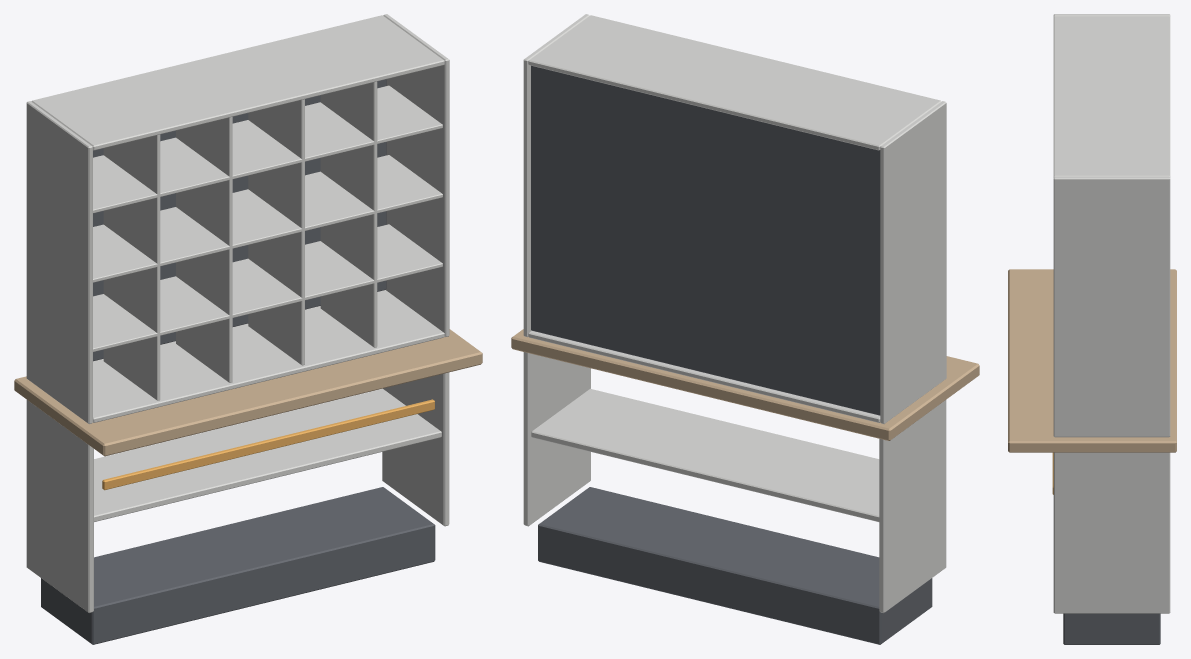
File: office-lobby-and-facilities-post-room-sorting-rack-dd1bfb09__26276.glb
3 renders of one model, left to right at view 1: azimuth 30°, elevation 25°; view 2: azimuth 150°, elevation 25°; view 3: azimuth 270°, elevation 25°, orthographic. The views are drawn at different scales.
Visible parts, largest first — view 1: post-room-sorting-rack; view 2: post-room-sorting-rack; view 3: post-room-sorting-rack.
Boxes of the visible parts, x1,y1,x2,y2 form: post-room-sorting-rack: [14, 14, 482, 644]; post-room-sorting-rack: [511, 14, 979, 644]; post-room-sorting-rack: [1008, 14, 1176, 644].
Size of the model in its own units: 1.26 by 1.6 by 0.5199.
